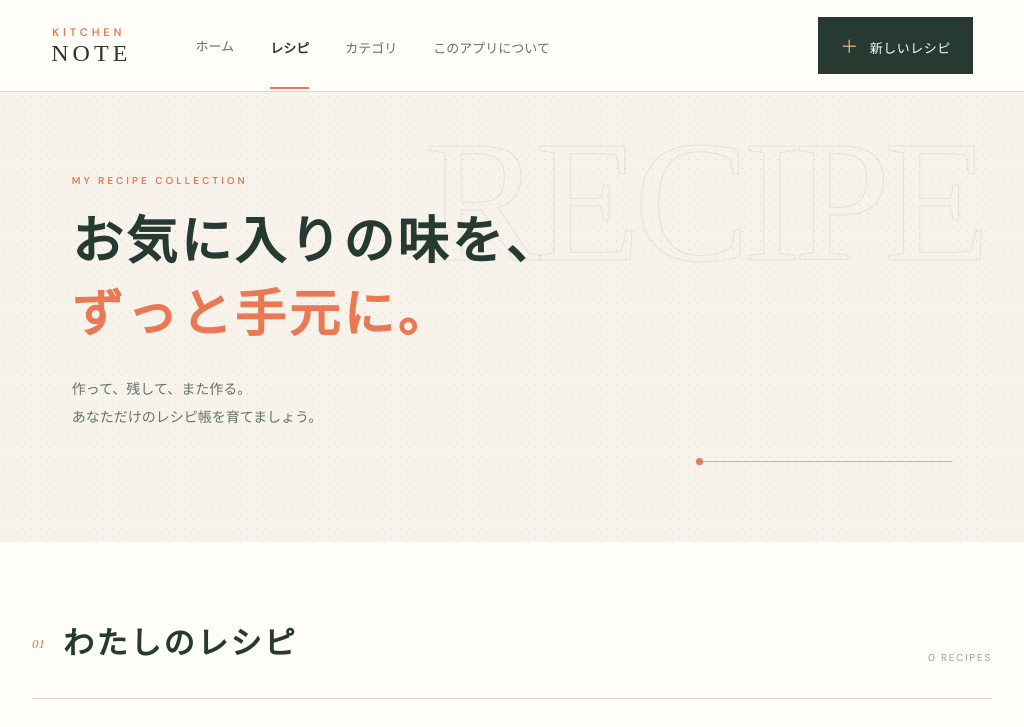
Test: RecipeApp › adds and removes recipe step fields
What coordinates should you click on to do the following:
click the button "＋ 新しいレシピ"
I would click on:
 (896, 46)
Its box is [818,17,973,74].
(page scrolled)
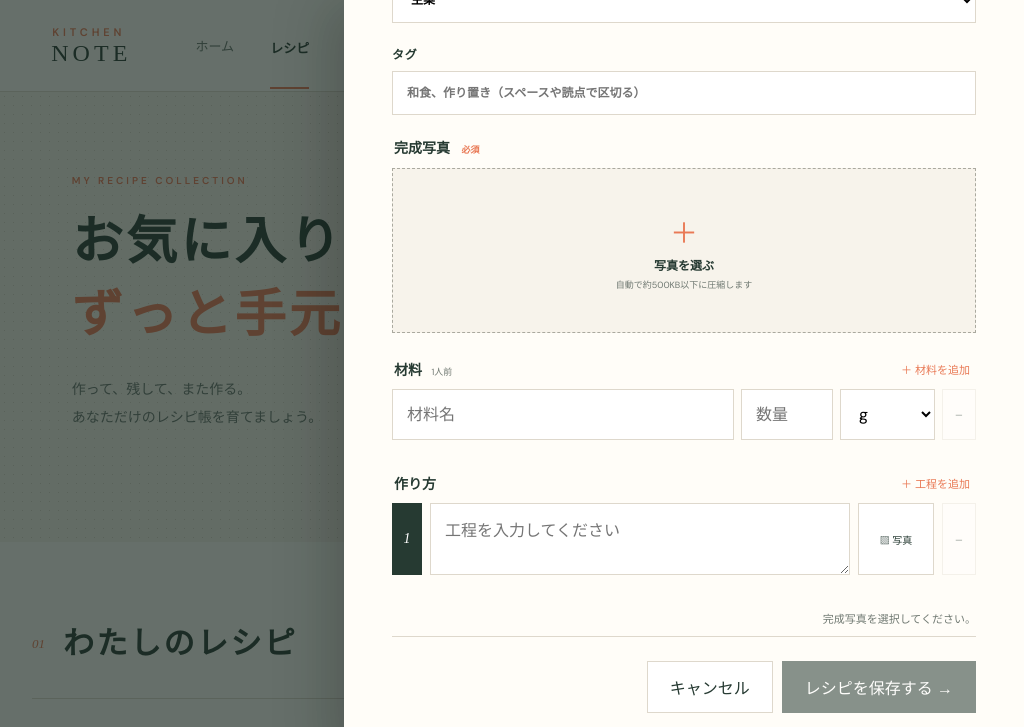
What coordinates should you click on to do the following:
click the button "＋ 工程を追加"
I would click on:
 (936, 483)
Its box is [895,474,976,492].
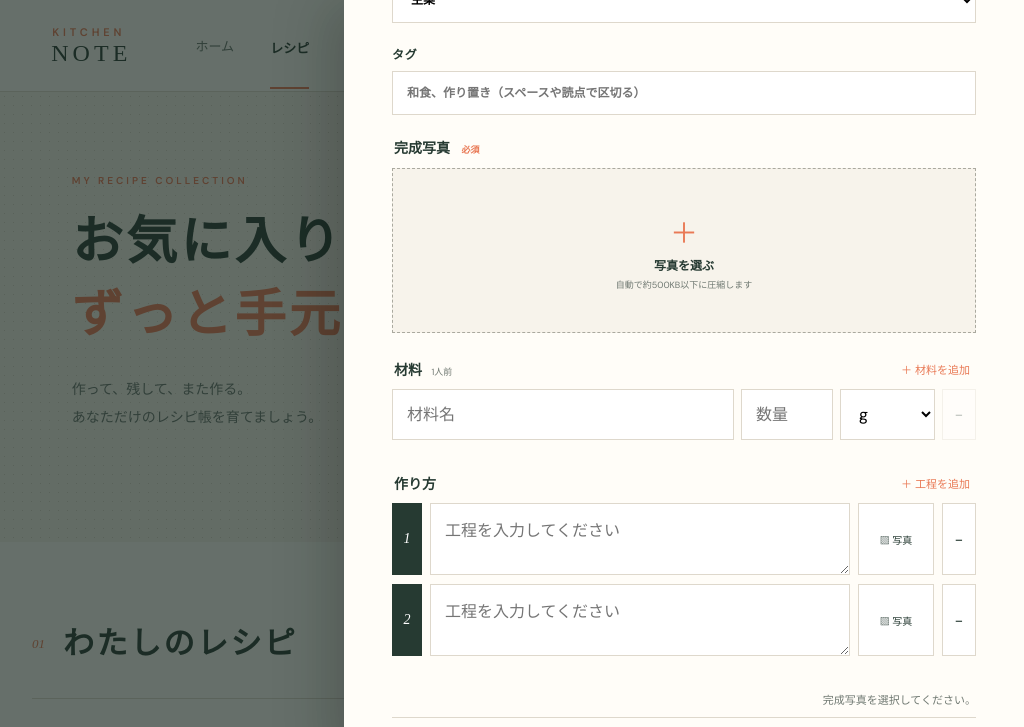
Expected: the number of text boxes with placeholder "工程を入力してください" is 2, [430,503,850,575]; [430,584,850,656]
What coordinates should you click on to do the following:
click the button named "工程2を削除"
I would click on:
 (959, 620)
Its box is [942,584,976,656].
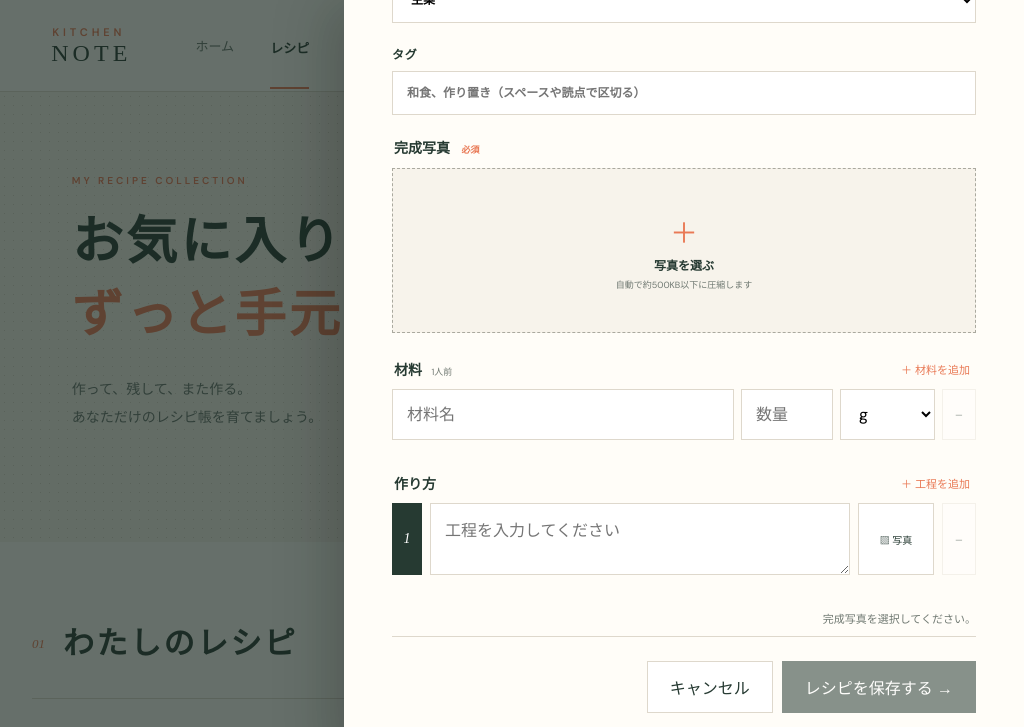
Expected: the number of text boxes with placeholder "工程を入力してください" is 1, [430,503,850,575]
